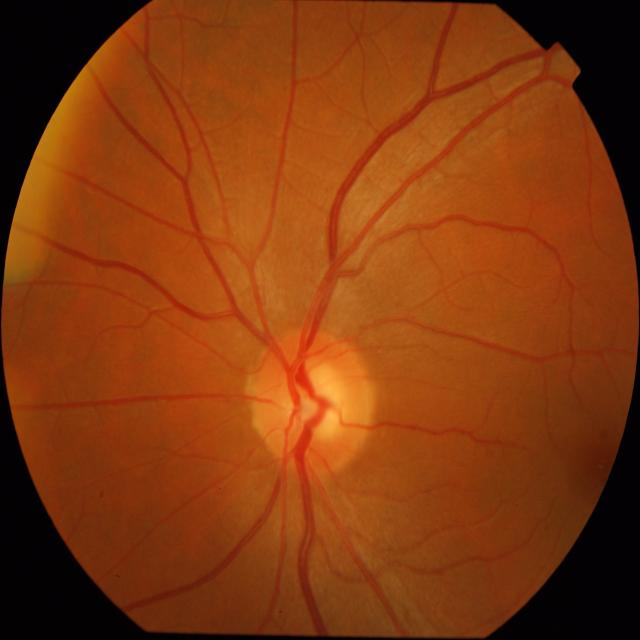OC: (288, 365, 350, 439)
OD: (249, 327, 375, 476)
